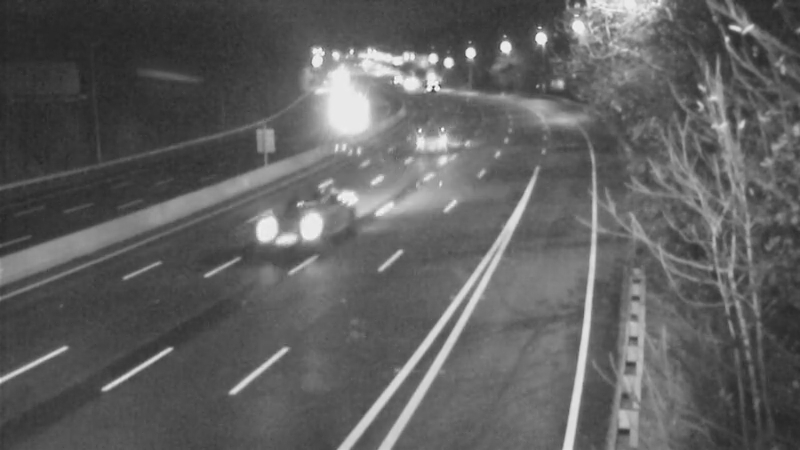vehicle: (262, 183, 342, 263), (385, 58, 435, 108), (406, 62, 456, 112), (412, 106, 462, 156), (322, 87, 372, 137)
